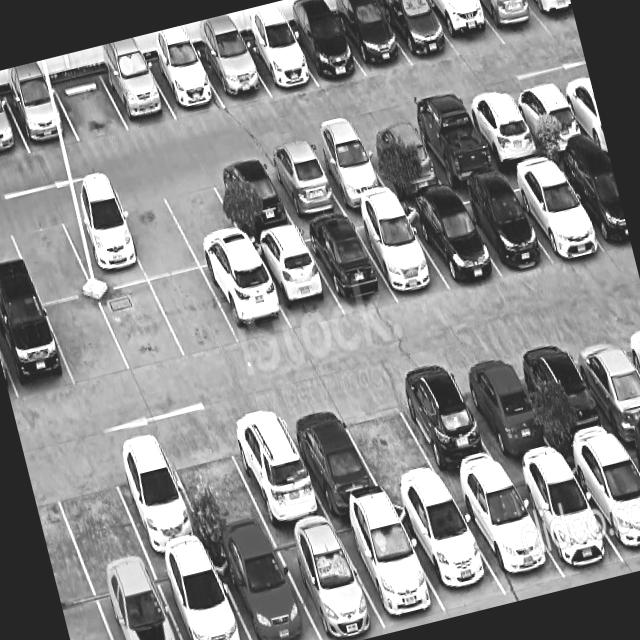car: (331, 504, 448, 633), (388, 366, 505, 489), (269, 521, 386, 640), (507, 461, 624, 578), (450, 475, 565, 594), (448, 351, 560, 473), (221, 406, 329, 532), (392, 492, 507, 610), (103, 437, 208, 561), (277, 397, 385, 516), (515, 336, 620, 456), (209, 535, 320, 640), (502, 162, 606, 261), (449, 180, 551, 276), (400, 194, 502, 290), (249, 230, 344, 332), (300, 217, 397, 315), (565, 443, 640, 568), (350, 206, 450, 299), (151, 549, 250, 640), (56, 197, 148, 292), (564, 326, 640, 441), (552, 150, 632, 252), (202, 257, 292, 344), (0, 302, 74, 401), (407, 107, 498, 187), (208, 158, 296, 240), (90, 563, 181, 640), (260, 146, 346, 224), (307, 135, 393, 210), (358, 121, 445, 195), (461, 93, 545, 168), (508, 81, 591, 154), (332, 2, 412, 77), (286, 17, 365, 86), (377, 0, 459, 66), (99, 61, 176, 131), (145, 52, 224, 120), (4, 83, 79, 153), (239, 31, 318, 96), (422, 0, 505, 58), (196, 42, 270, 107), (473, 0, 550, 44), (0, 95, 29, 160), (527, 0, 577, 32)
free: (334, 383, 446, 500), (45, 450, 148, 577), (162, 426, 270, 547), (158, 171, 250, 268), (5, 209, 93, 304), (111, 186, 199, 280), (97, 281, 186, 373), (149, 269, 240, 358), (44, 294, 130, 386), (52, 71, 129, 141)
